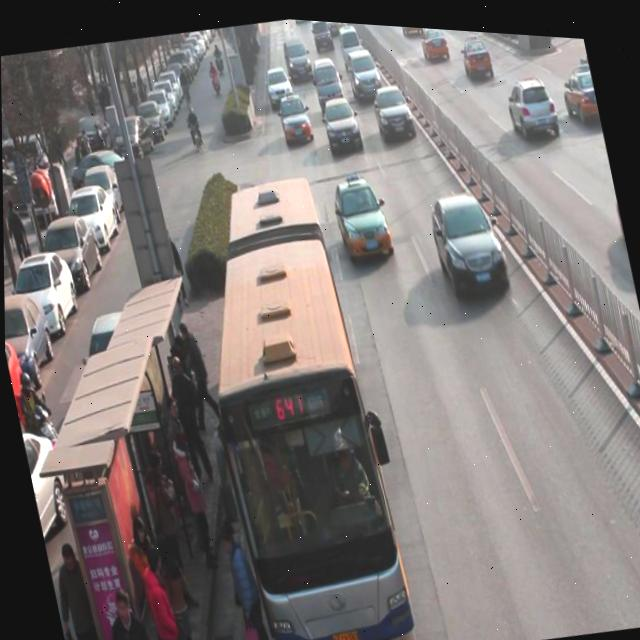car: (427, 181, 513, 296), (327, 168, 395, 264), (503, 67, 562, 140), (368, 76, 417, 142), (558, 53, 601, 122), (320, 91, 365, 152), (345, 42, 385, 97), (277, 89, 313, 144), (458, 28, 495, 77), (281, 33, 314, 82), (264, 59, 296, 108), (417, 22, 451, 60), (310, 16, 335, 52), (397, 21, 424, 32)
truck: (311, 52, 347, 106), (337, 18, 365, 61)
van: (172, 160, 414, 640)
